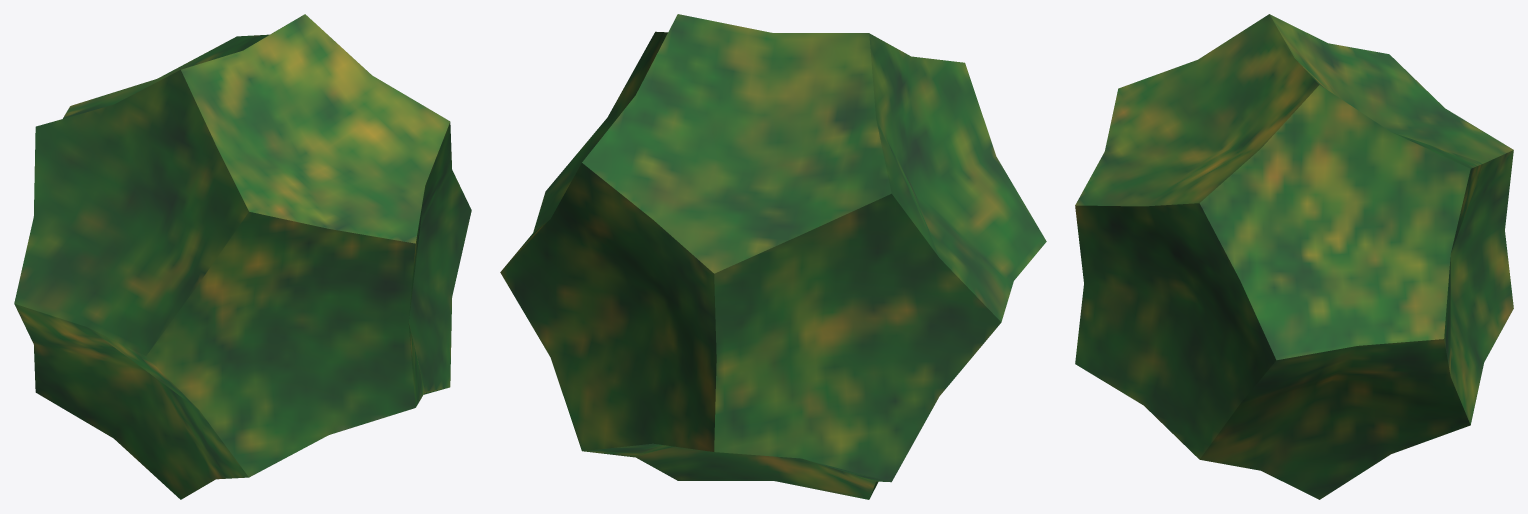
The model's file is tree_bush.FBX.
The picture shows the model from 3 angles, left to right: view 1: azimuth 30°, elevation 25°; view 2: azimuth 150°, elevation 25°; view 3: azimuth 270°, elevation 25°; orthographic projection. The views are drawn at different scales.
Parts seen in each view (by area): view 1: tree_bush; view 2: tree_bush; view 3: tree_bush.
Boxes of the visible parts, x1,y1,x2,y2 form: tree_bush: (14, 14, 471, 499); tree_bush: (500, 14, 1046, 499); tree_bush: (1075, 14, 1513, 499).
Size of what is drawn, in the model's own units: 8.63 by 7.74 by 8.08.
